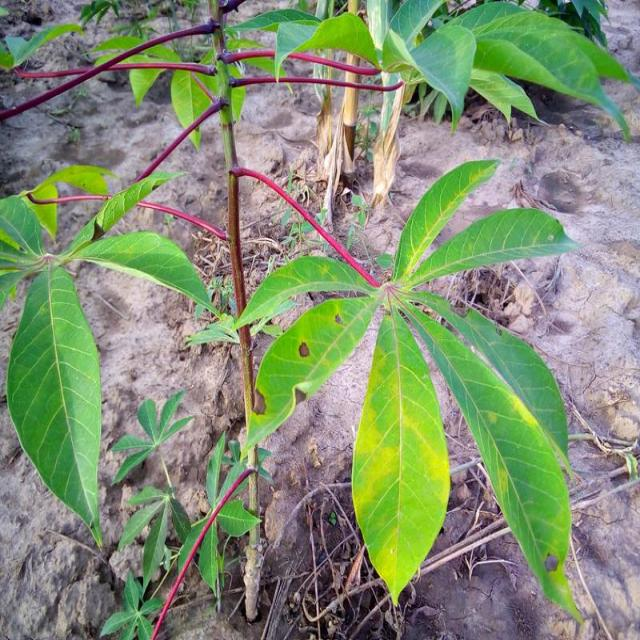cassava leaf: (233, 156, 584, 623), (400, 292, 585, 624), (350, 304, 450, 607), (6, 261, 102, 548)
